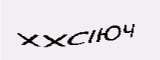В: (64, 20, 83, 42)
Д: (82, 26, 93, 46)
К: (93, 24, 108, 41)
П: (108, 21, 124, 46)
Ш: (29, 22, 61, 45)
